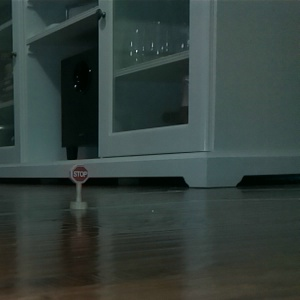stop sign: (67, 163, 90, 211)
